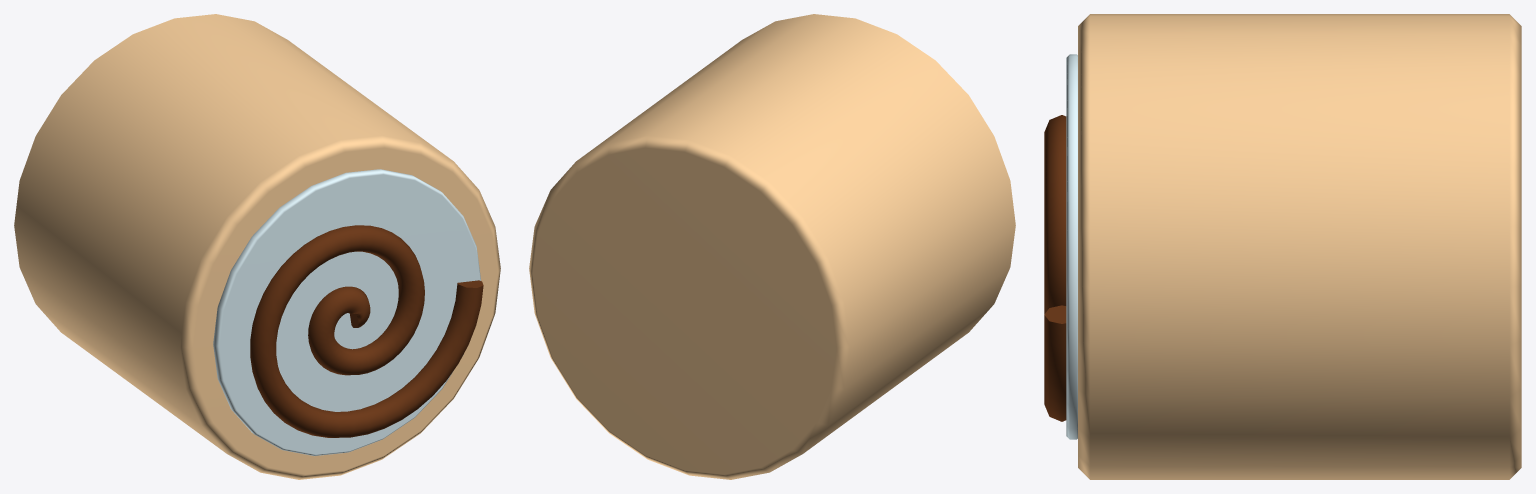
Rendered from swissroll.fbx.
3 renders of one model, left to right at view 1: azimuth 30°, elevation 25°; view 2: azimuth 150°, elevation 25°; view 3: azimuth 270°, elevation 25°, orthographic. The views are drawn at different scales.
Visible parts, largest first — view 1: swissroll; view 2: swissroll; view 3: swissroll.
Part boxes in pixels (x1,y1,x2,y2): swissroll: (14, 14, 500, 479); swissroll: (529, 14, 1015, 479); swissroll: (1044, 14, 1521, 479).
Size of the model in its own units: 97.97 by 97.97 by 100.
Materials: 1 (1 with a texture image).
